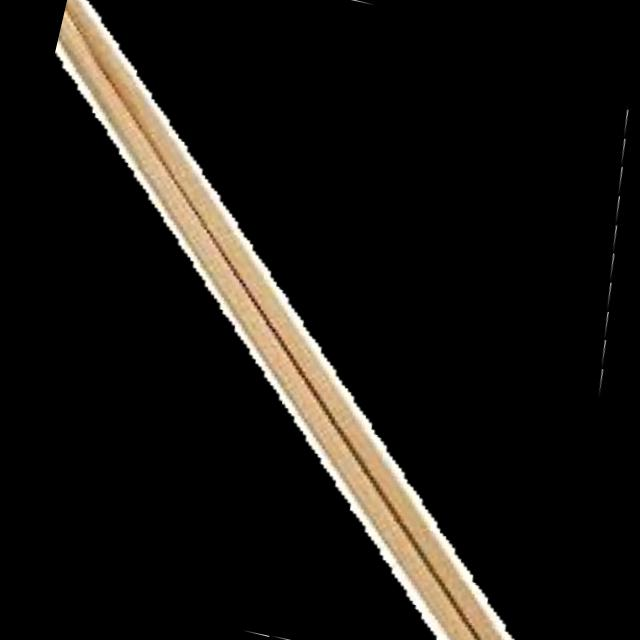others: (57, 0, 522, 640)
